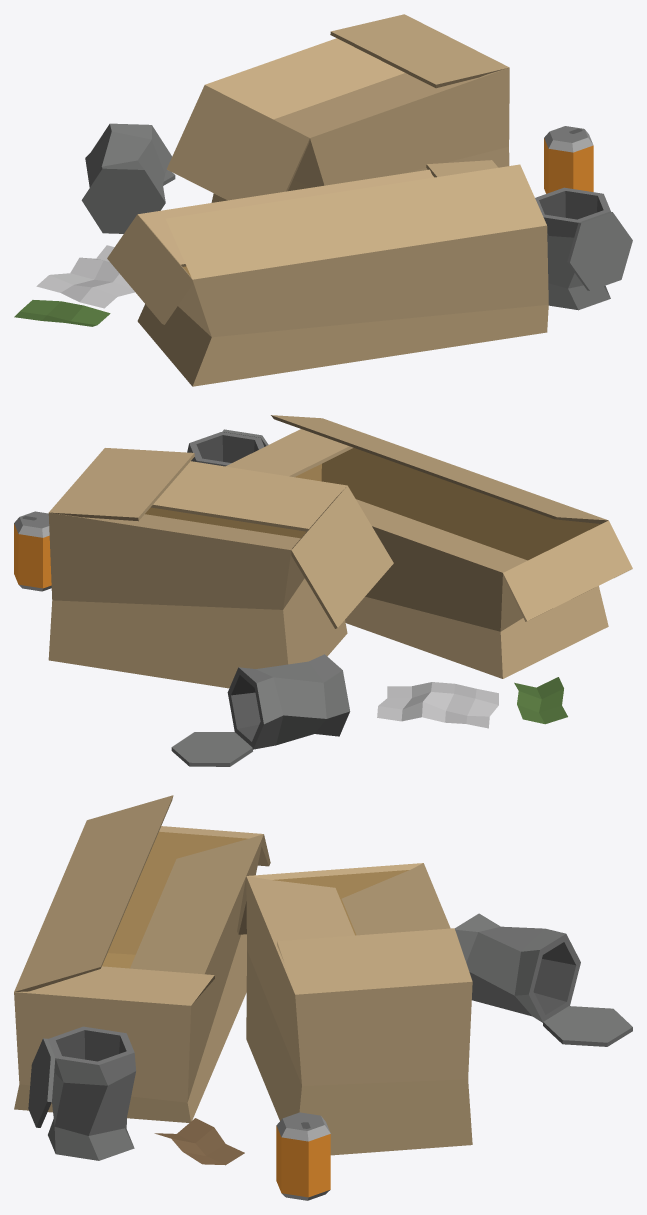
The model's file is Garbage.glb.
3 renders of one model, top to bottom at view 1: azimuth 30°, elevation 25°; view 2: azimuth 150°, elevation 25°; view 3: azimuth 270°, elevation 25°, orthographic. The views are drawn at different scales.
Parts seen in each view (by area): view 1: GarbageInTheGround; view 2: GarbageInTheGround; view 3: GarbageInTheGround.
Part boxes in pixels (x1,y1,x2,y2): GarbageInTheGround: [14, 14, 632, 386]; GarbageInTheGround: [14, 415, 632, 766]; GarbageInTheGround: [14, 795, 632, 1200].
Size of the model in its own units: 1.19 by 0.3199 by 1.03.
Materials: 1 (1 with a texture image).
